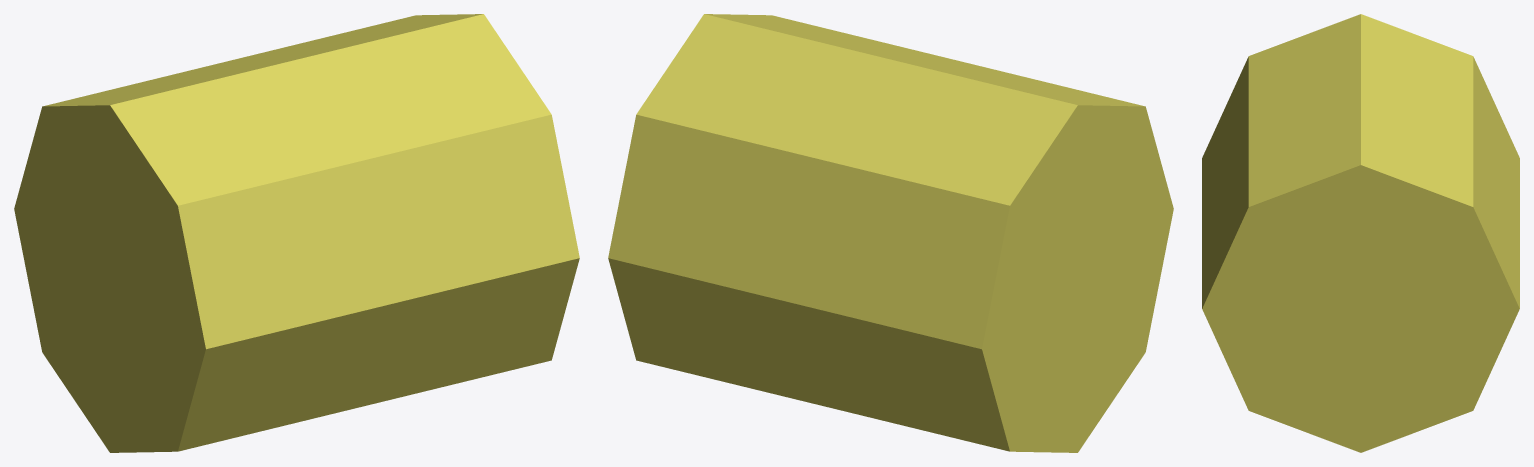
Rendered from hay.glb.
The picture shows the model from 3 angles, left to right: view 1: azimuth 30°, elevation 25°; view 2: azimuth 150°, elevation 25°; view 3: azimuth 270°, elevation 25°; orthographic projection. The views are drawn at different scales.
Parts seen in each view (by area): view 1: Hay; view 2: Hay; view 3: Hay.
Boxes of the visible parts, x1=… form: Hay: x1=14, y1=14, x2=579, y2=452; Hay: x1=608, y1=14, x2=1173, y2=452; Hay: x1=1202, y1=14, x2=1519, y2=452.
Bounding box in the file's own units: 0.9 × 0.8 × 0.8.
